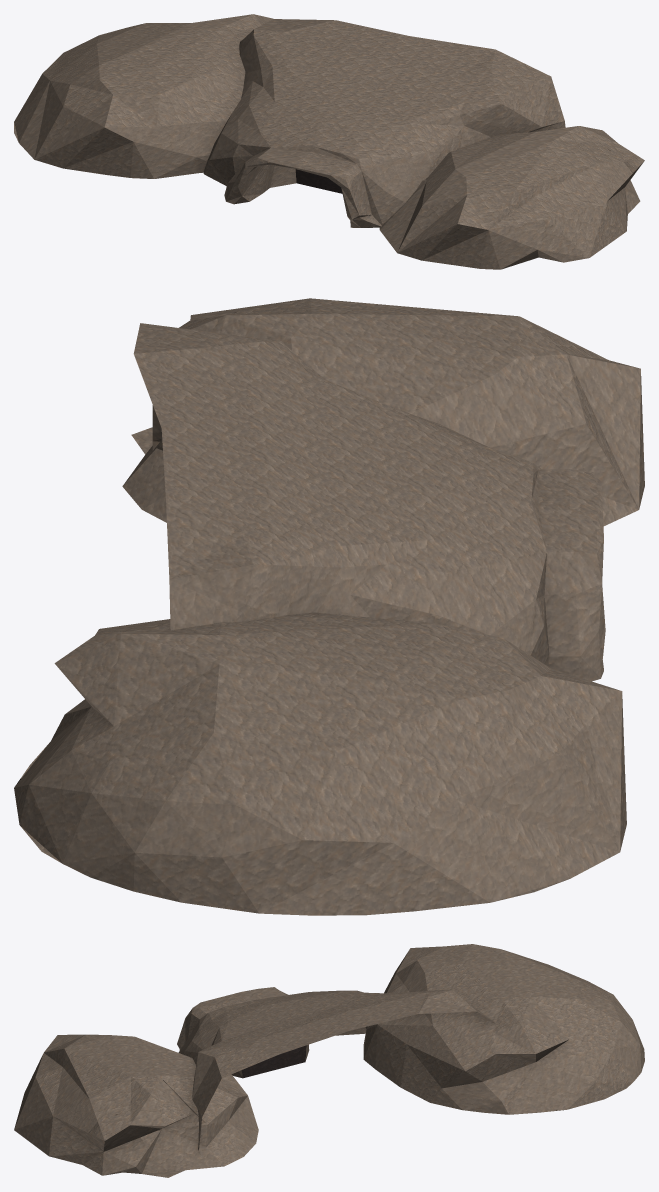
Rendered from lateral9-02e8.glb.
3 renders of one model, top to bottom at view 1: azimuth 30°, elevation 25°; view 2: azimuth 150°, elevation 25°; view 3: azimuth 270°, elevation 25°, orthographic. The views are drawn at different scales.
Visible parts, largest first — view 1: Intact CC0 cave global anisotropic, original474tri; view 2: Intact CC0 cave global anisotropic, original474tri; view 3: Intact CC0 cave global anisotropic, original474tri.
Boxes of the visible parts, x1,y1,x2,y2 form: Intact CC0 cave global anisotropic, original474tri: (14, 14, 644, 269); Intact CC0 cave global anisotropic, original474tri: (14, 298, 644, 915); Intact CC0 cave global anisotropic, original474tri: (14, 944, 644, 1177).
Bounding box in the file's own units: 64.98 × 14.63 × 87.36.
Materials: 1 (1 with a texture image).
